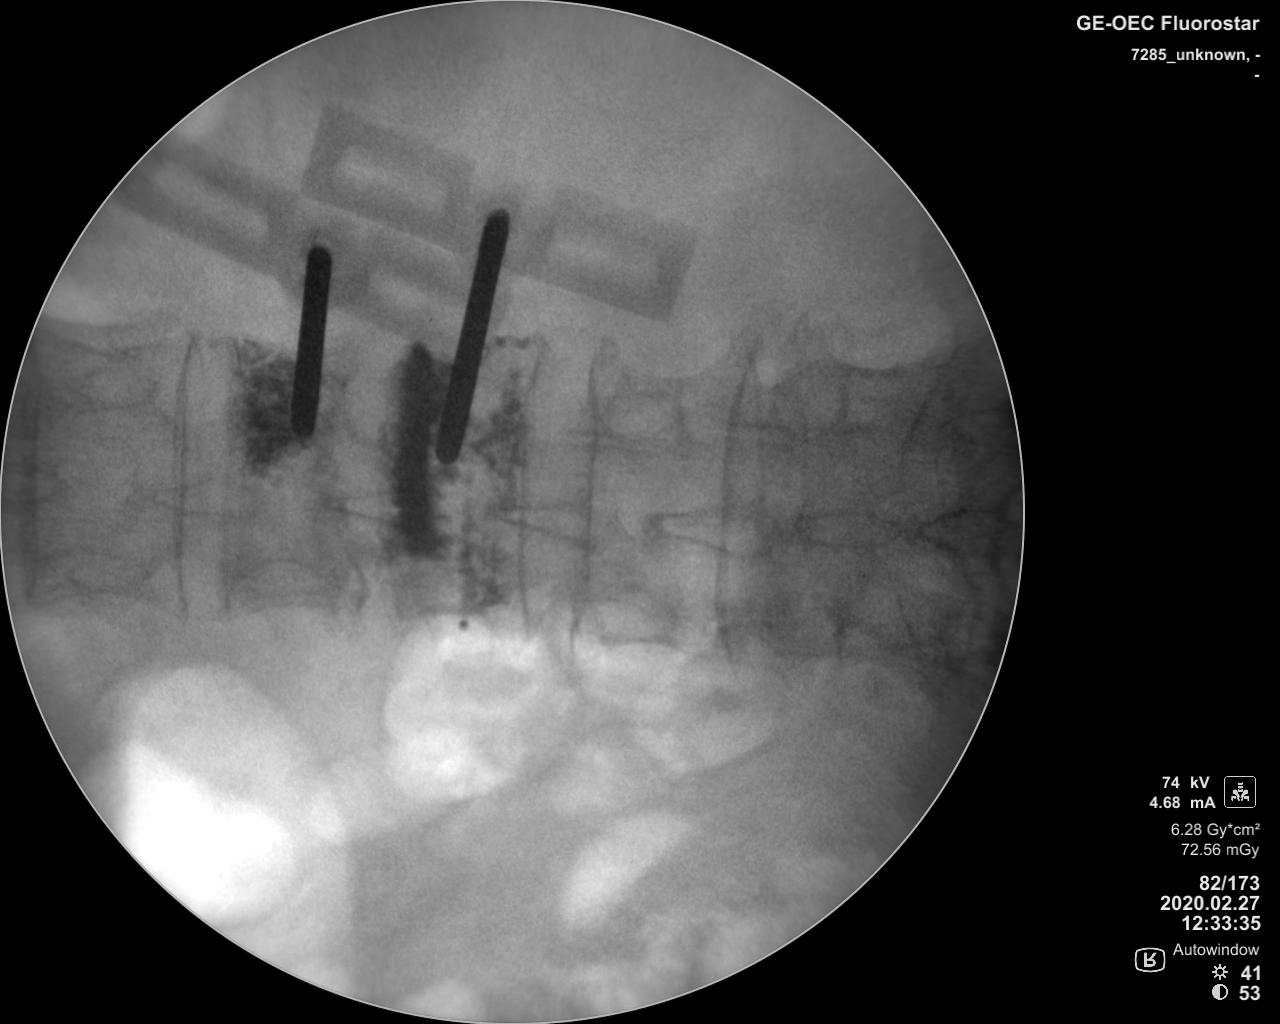eyes: (766, 370, 847, 444), (594, 587, 679, 649), (760, 601, 842, 664), (415, 565, 506, 620), (603, 385, 686, 442), (76, 358, 162, 414), (63, 549, 150, 597), (236, 561, 320, 610)
line: (716, 338, 748, 670), (575, 338, 603, 652), (172, 327, 202, 627), (518, 335, 544, 651), (20, 382, 44, 604)
nose: (645, 501, 781, 564), (487, 494, 618, 554), (145, 471, 276, 519), (912, 502, 1009, 561), (793, 503, 902, 555), (308, 484, 448, 523)
